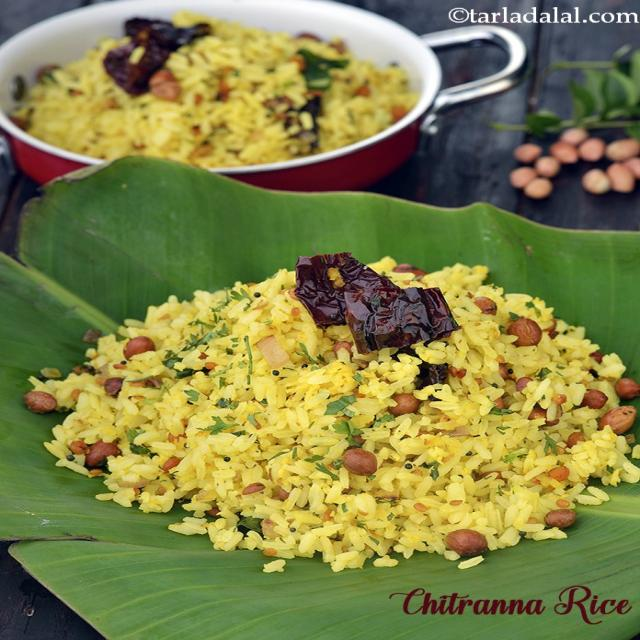lemon rice: (11, 237, 640, 595), (0, 0, 431, 174)
